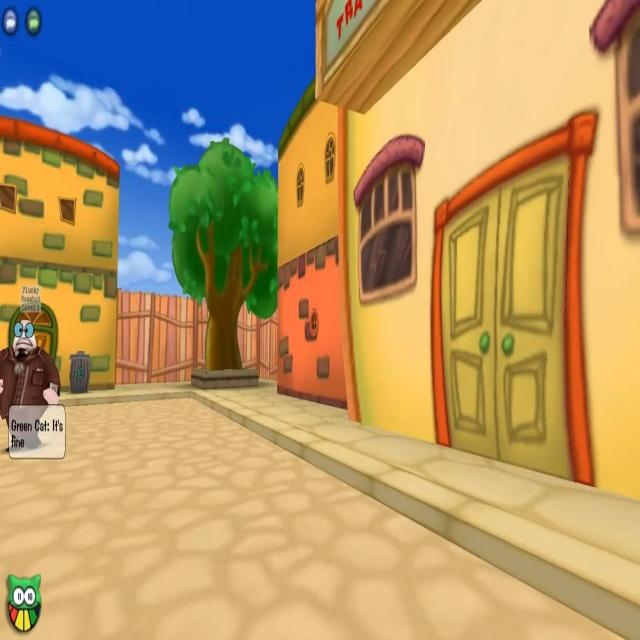flunky: (0, 321, 66, 461)
